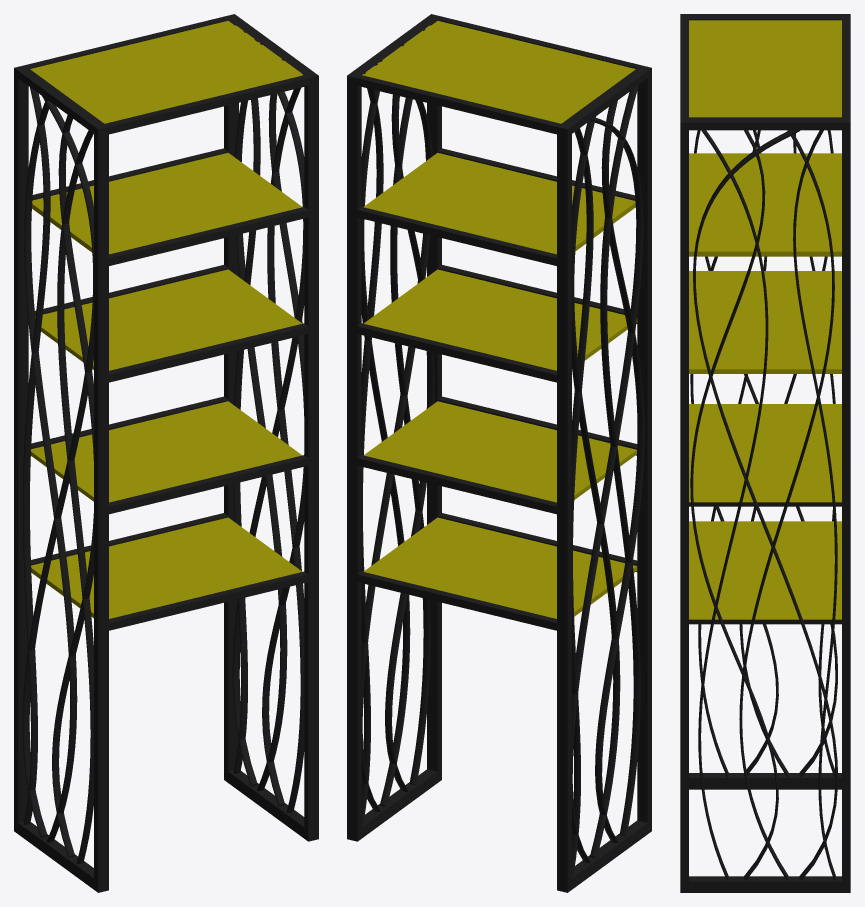
The model's file is Bookshelfgood.glb.
3 views of the same model, side by side, from view 1: azimuth 30°, elevation 25°; view 2: azimuth 150°, elevation 25°; view 3: azimuth 270°, elevation 25° (orthographic).
Visible parts, largest first — view 1: Cube049_1, Cube049; view 2: Cube049_1, Cube049; view 3: Cube049, Cube049_1.
Boxes of the visible parts, <box> form: Cube049_1: <box>14,14,318,892</box>; Cube049: <box>30,20,302,618</box>; Cube049_1: <box>347,14,651,892</box>; Cube049: <box>362,20,637,618</box>; Cube049: <box>689,20,841,619</box>; Cube049_1: <box>680,14,850,892</box>.
Bounding box in the file's own units: 0.6046 × 2 × 0.4.
